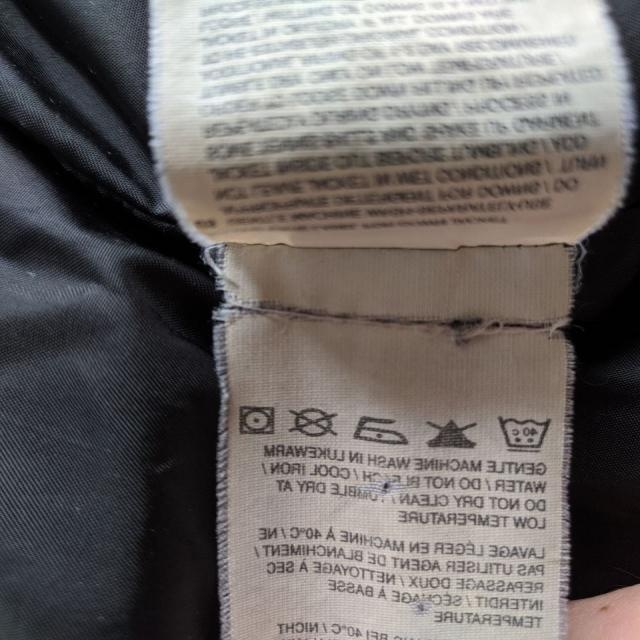40C: (493, 408, 551, 456)
DN_bleach: (425, 415, 475, 452)
DN_dry_clean: (288, 405, 336, 441)
iron_low: (352, 412, 406, 446)
tumble_dry_low: (236, 403, 279, 438)
